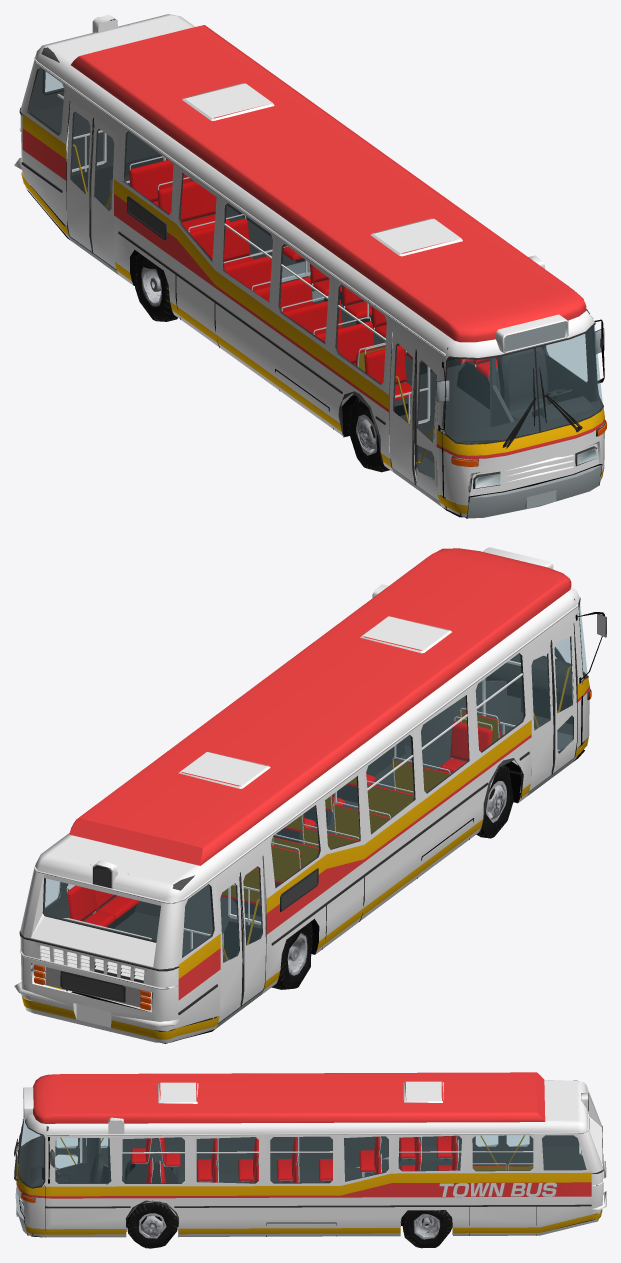
Rendered from bus.glb.
The picture shows the model from 3 angles, top to bottom: view 1: azimuth 30°, elevation 25°; view 2: azimuth 150°, elevation 25°; view 3: azimuth 270°, elevation 25°; orthographic projection. The views are drawn at different scales.
Parts seen in each view (by area): view 1: paint, trim, glass, wheel; view 2: paint, trim, glass, wheel; view 3: paint, trim, glass, wheel, decal.
Boxes of the visible parts, x1,y1,x2,y2 form: paint: (20, 14, 604, 517); trim: (14, 17, 606, 518); glass: (28, 68, 602, 487); wheel: (135, 253, 389, 472); paint: (20, 547, 589, 1042); trim: (14, 598, 606, 1043); glass: (44, 606, 587, 962); wheel: (271, 765, 513, 989); paint: (16, 1072, 602, 1237); trim: (14, 1080, 606, 1237); glass: (18, 1115, 585, 1211); wheel: (126, 1201, 452, 1248); decal: (439, 1182, 556, 1197).
Bounding box in the file's own units: 2.84 × 3 × 12.
5 materials, 4 textured.
